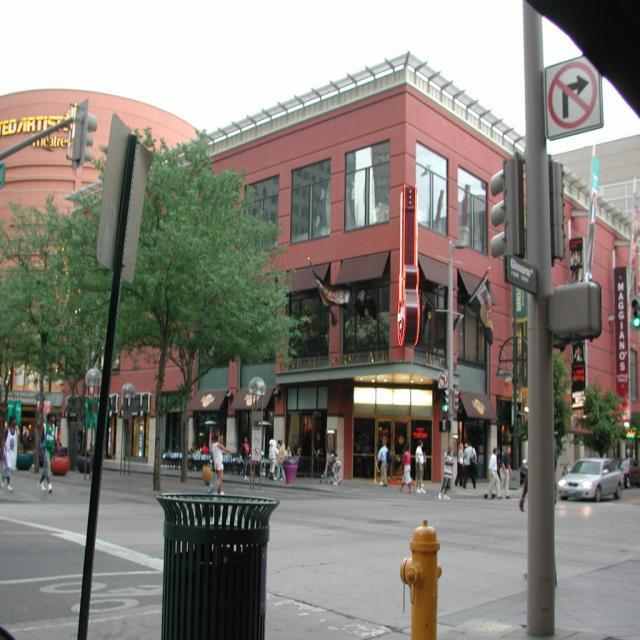off traffic light: (484, 161, 524, 259), (71, 99, 98, 170)
road_sign: (544, 55, 600, 138), (629, 297, 640, 329)
